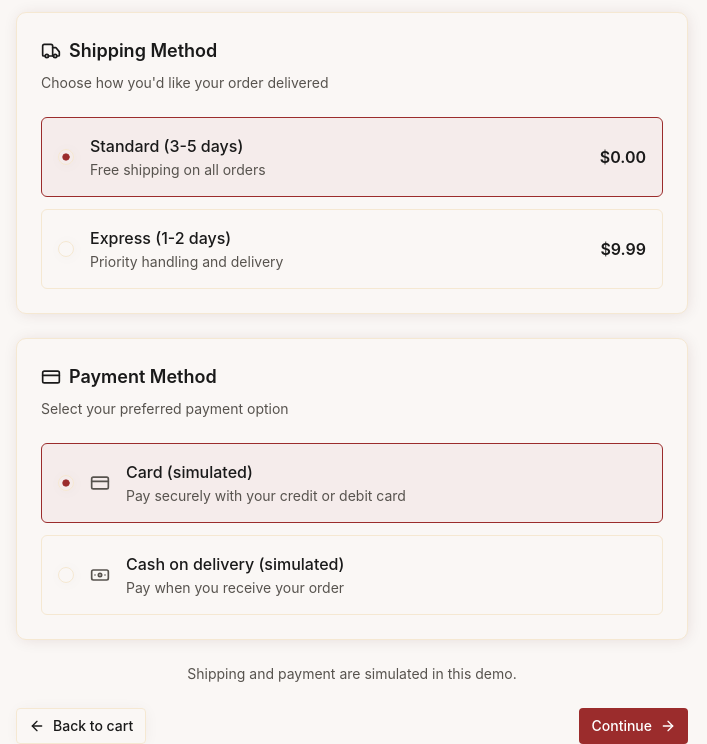
Test: CheckoutForm › step navigation › returns to Step 1 when Back is clicked on Step 2
(page scrolled)
Click the button with test id "checkout-continue" at (634, 726), box [580,708,688,743]
(page scrolled)
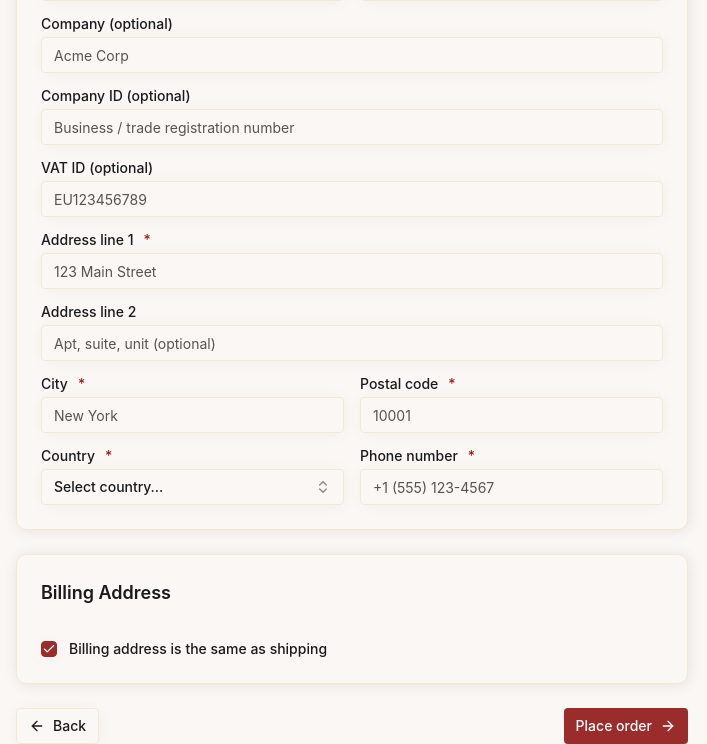
Click the button "Back" at (58, 726), box [16,708,99,743]
(page scrolled)
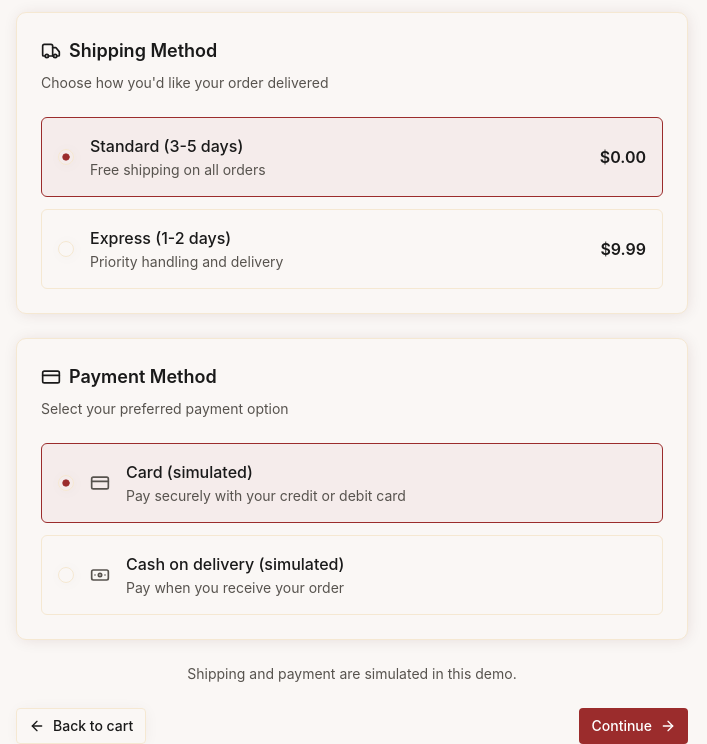
Result: the button with test id "checkout-continue" is shown at [580,708,688,743]
